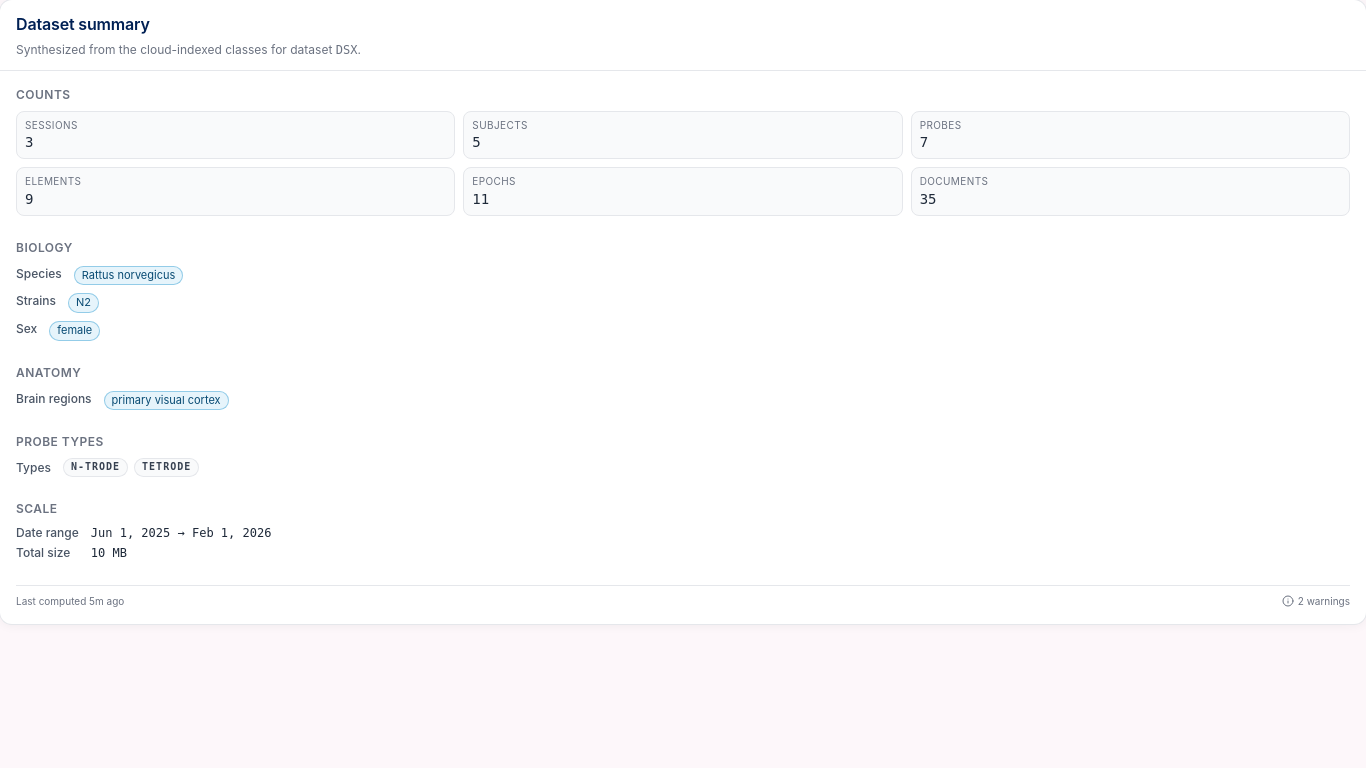
Test: DatasetSummaryCard — warnings footer › reveals the warnings tooltip when the user toggles it, with humanized copy
Click the button with test id "summary-warnings-toggle" at (1316, 601), box [1282, 594, 1350, 608]
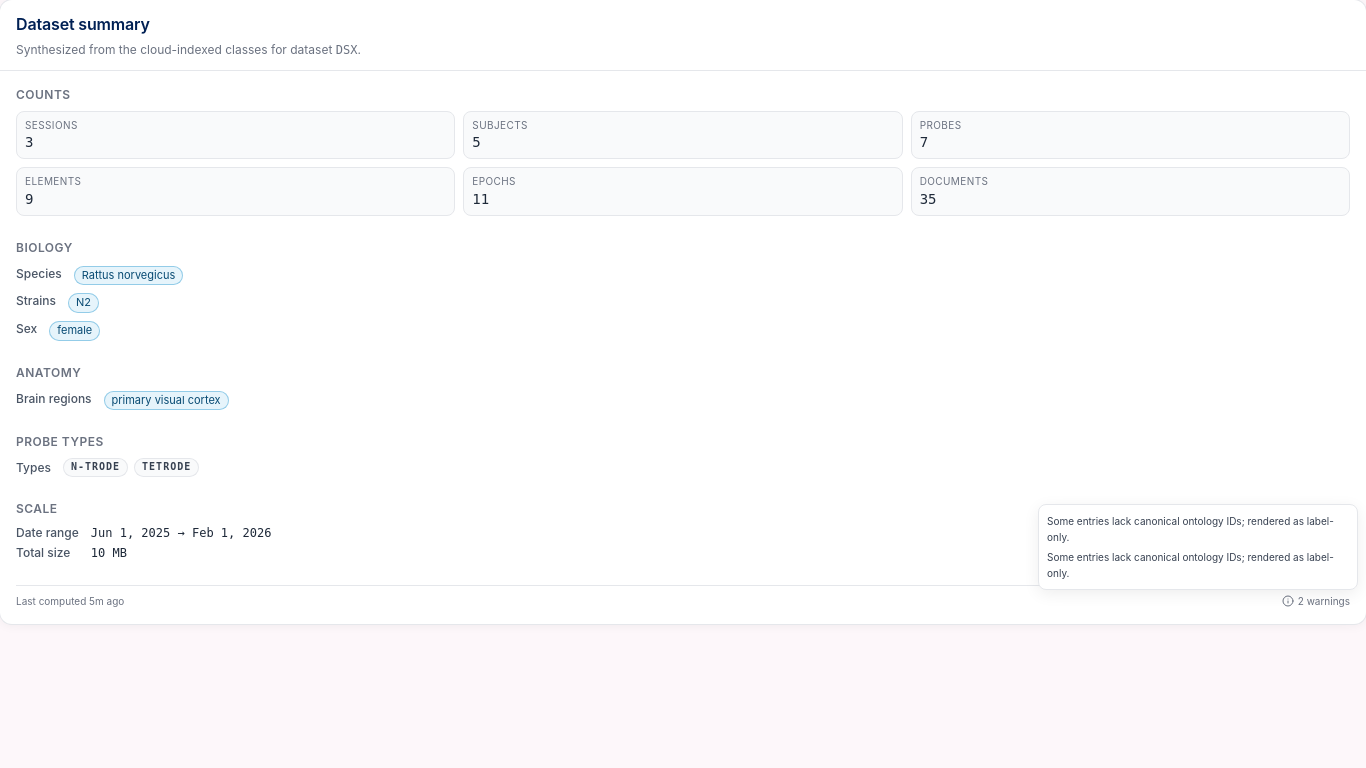
Check: the 1st list item with test id "summary-warning" does not show "species extraction", box [1047, 513, 1349, 545]
Check: the number of list items with test id "summary-warning" is 2, box [1047, 513, 1349, 545]; [1047, 549, 1349, 581]
Check: the 1st list item with test id "summary-warning" shows "label-only", box [1047, 515, 1334, 543]
